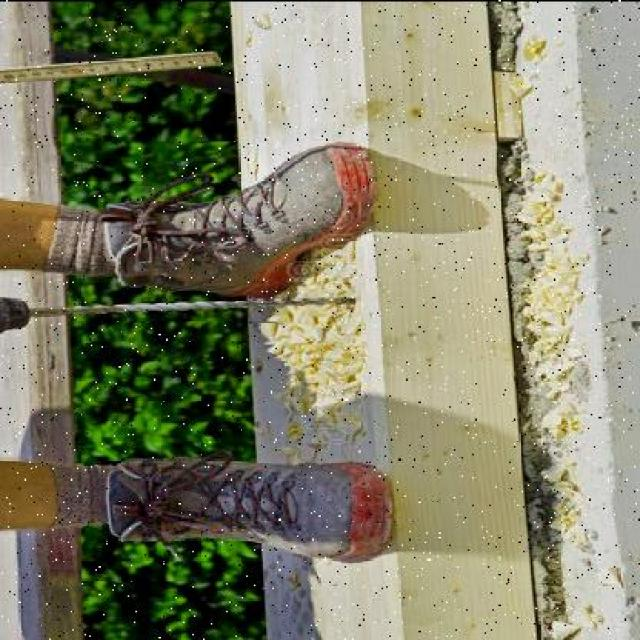shoes: (125, 148, 378, 287), (109, 459, 377, 541)
